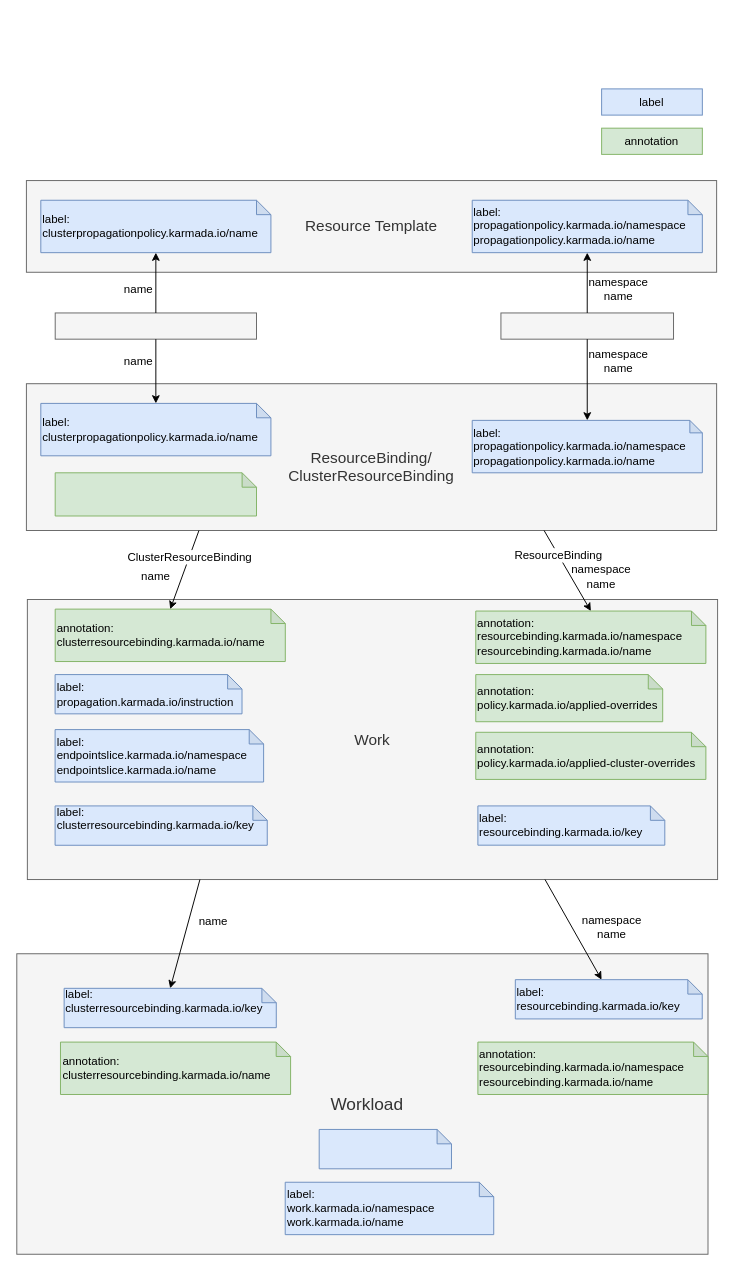
This 734x1271 diagram has some shape labels left out. The shapes that lost their labels are listed below. From the top down, each one's centre as x and y in pixels, then its label:
(155,325): CusterPropagationPolicy
(587,325): PropagationPolicy
(155,494): annotation: policy.karmada.io/applied-placement
(384,1148): label: karmada.io/managed
